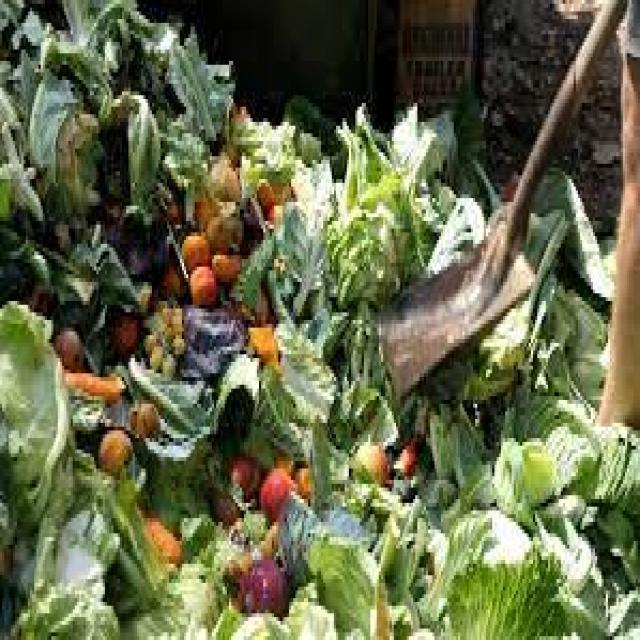Wet: (2, 4, 332, 640), (155, 156, 267, 348)
